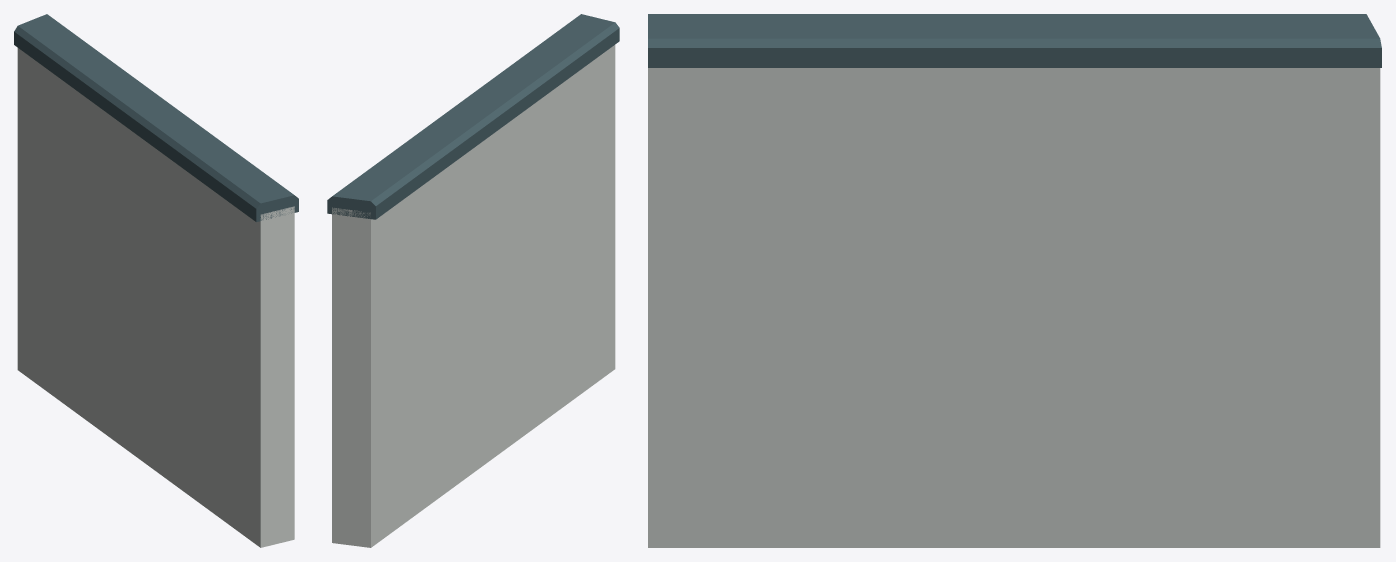
The model's file is halfwall_straight_100cm_miter_10000_0_10000_2361.glb.
The picture shows the model from 3 angles, left to right: view 1: azimuth 30°, elevation 25°; view 2: azimuth 150°, elevation 25°; view 3: azimuth 270°, elevation 25°; orthographic projection. The views are drawn at different scales.
Visible parts, largest first — view 1: Seamless solid halfwall.002, Seamless top cap.002; view 2: Seamless solid halfwall.002, Seamless top cap.002; view 3: Seamless solid halfwall.002, Seamless top cap.002.
Boxes of the visible parts, x1=… form: Seamless solid halfwall.002: x1=17, y1=48, x2=294, y2=547; Seamless top cap.002: x1=14, y1=14, x2=298, y2=222; Seamless solid halfwall.002: x1=332, y1=45, x2=615, y2=547; Seamless top cap.002: x1=327, y1=14, x2=619, y2=219; Seamless solid halfwall.002: x1=648, y1=68, x2=1380, y2=547; Seamless top cap.002: x1=648, y1=14, x2=1381, y2=67.
Bounding box in the file's own units: 0.1 × 0.775 × 1.01.
